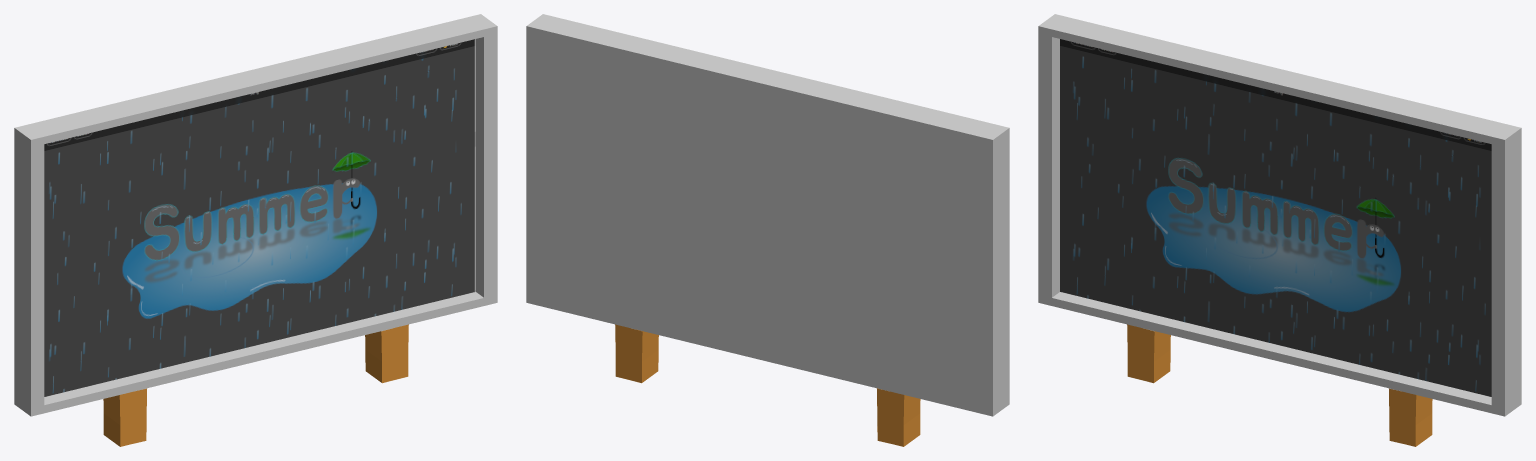
The model's file is frame-gallery3.glb.
3 renders of one model, left to right at view 1: azimuth 30°, elevation 25°; view 2: azimuth 150°, elevation 25°; view 3: azimuth 330°, elevation 25°, orthographic.
Visible parts, largest first — view 1: gallery3, Cube; view 2: Cube; view 3: gallery3, Cube.
Part boxes in pixels (bbox=[...]): gallery3: bbox=[44, 39, 475, 396]; Cube: bbox=[14, 14, 497, 446]; Cube: bbox=[526, 14, 1009, 446]; gallery3: bbox=[1060, 39, 1491, 396]; Cube: bbox=[1038, 14, 1521, 446].
Size of the model in its own units: 11.03 by 7.43 by 0.6791.
Materials: 3 (1 with a texture image).
